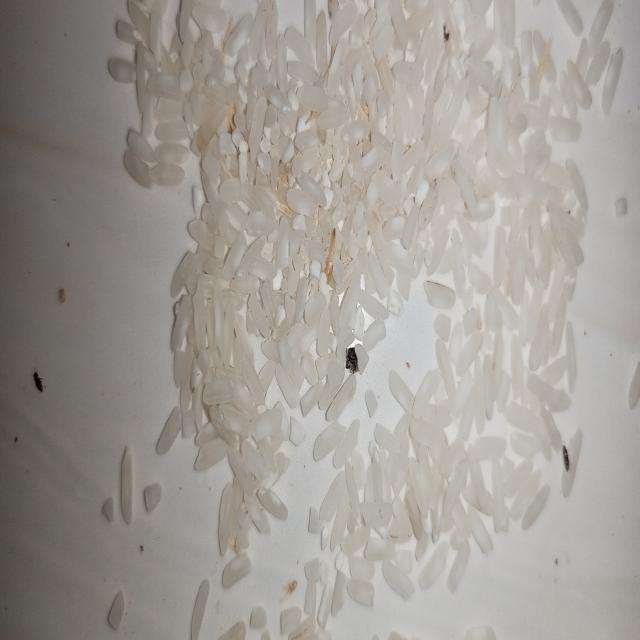Bulir_padi: (326, 219, 338, 298)
Kerikil: (343, 337, 360, 382), (440, 19, 450, 48)
Kutu_beras: (31, 356, 47, 404), (562, 436, 574, 484)
